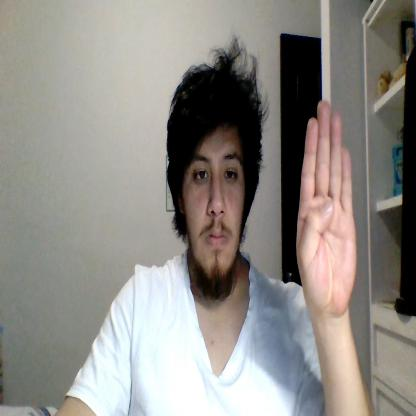B: (297, 99, 356, 312)
